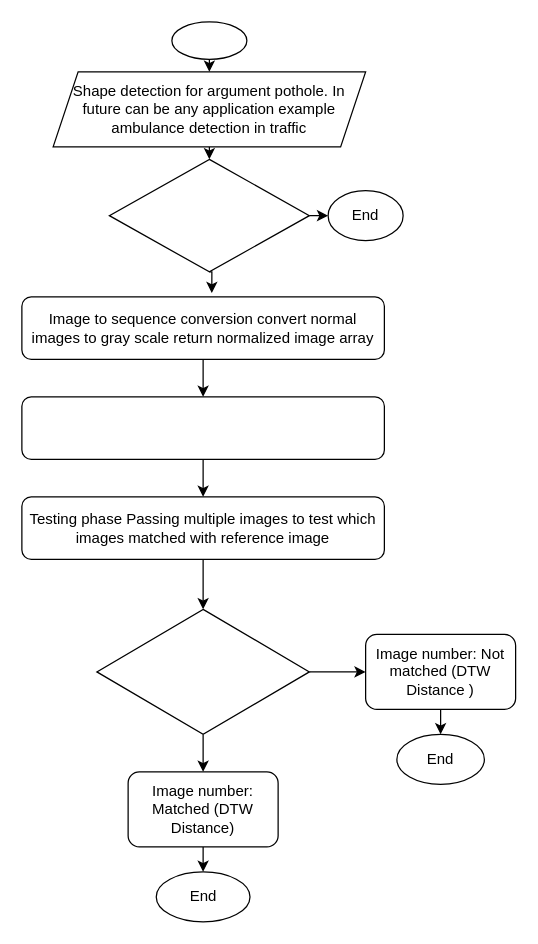
The diagram is 538 pixels wide and 944 high, and some of its shapes have lost their labels. Here are the shapes that lost their labels. From the top down, the centre of each, then its label:
the point at 209,40: Start
the point at 208,215: Shape detection for = 'pothole'
the point at 202,427: Learning phase DTW Algorithm learns referecne image
the point at 202,671: Test image matched with refence image?
